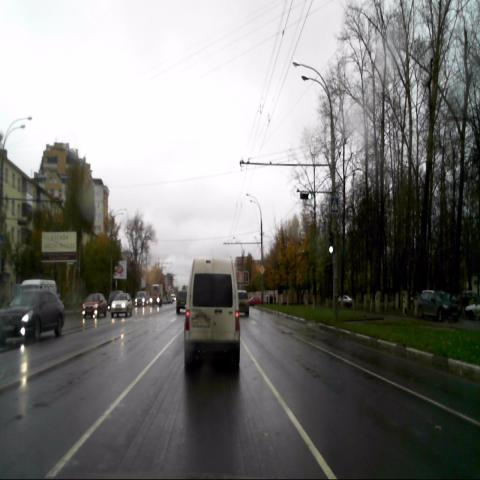5_19_1: (330, 196, 338, 212)
